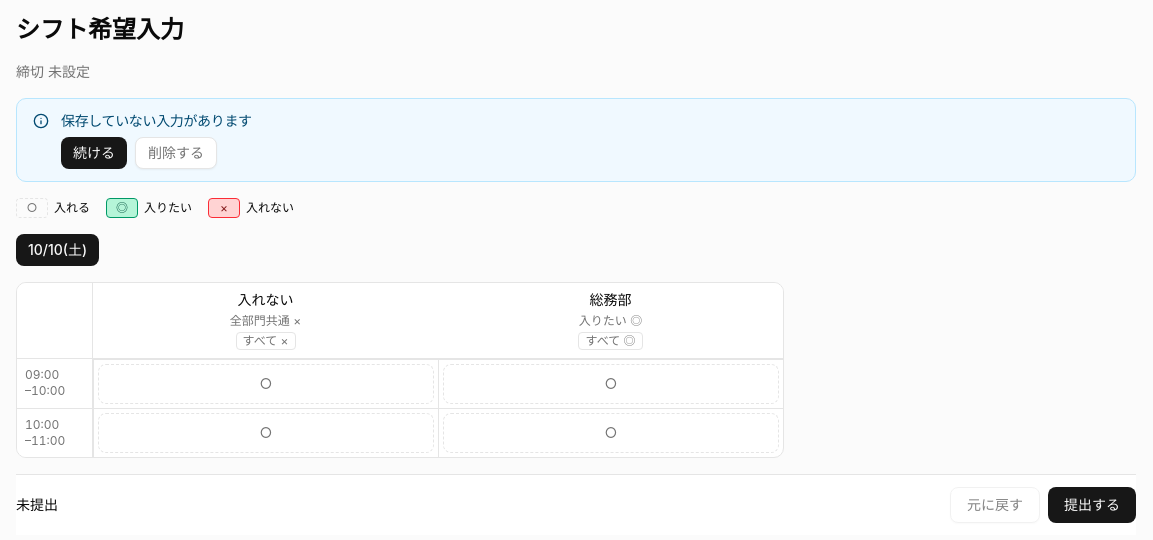
Test: 提出前（未提出） › 下書きがあれば開き直したときに知らせ、「続ける」で復元する
Expected: the text "保存していない入力があります" is shown, [61, 112, 252, 129]
What coordinates should you click on to do the following:
click the button "続ける"
I would click on:
 (94, 153)
Its box is [61, 137, 127, 169].
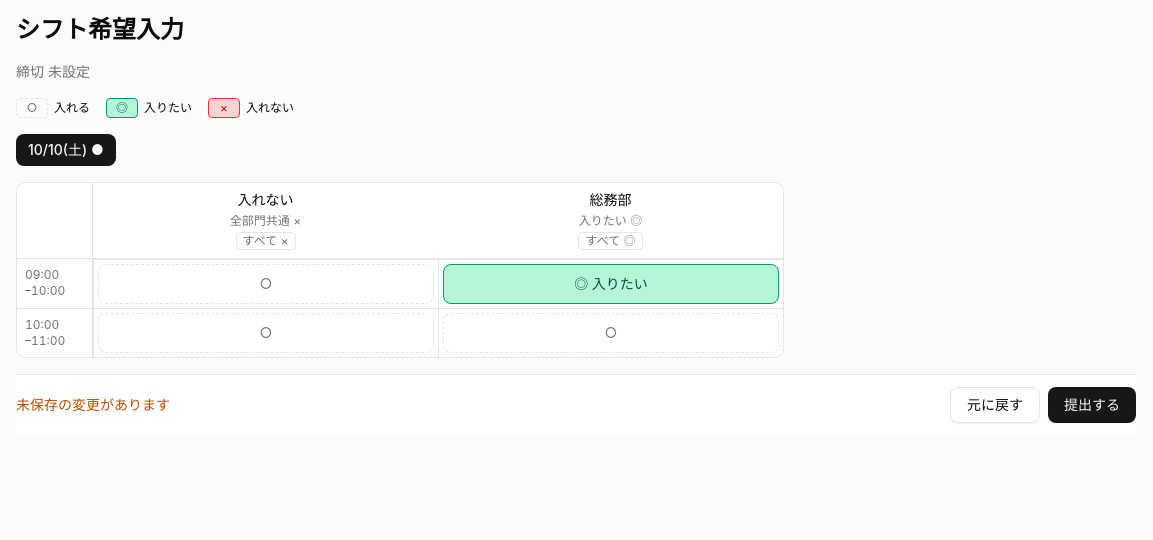
Now the button with aria-label "09:00から10:00、総務部：入りたい" is shown, box [443, 264, 779, 304]
Now the text "保存していない入力があります" is gone
